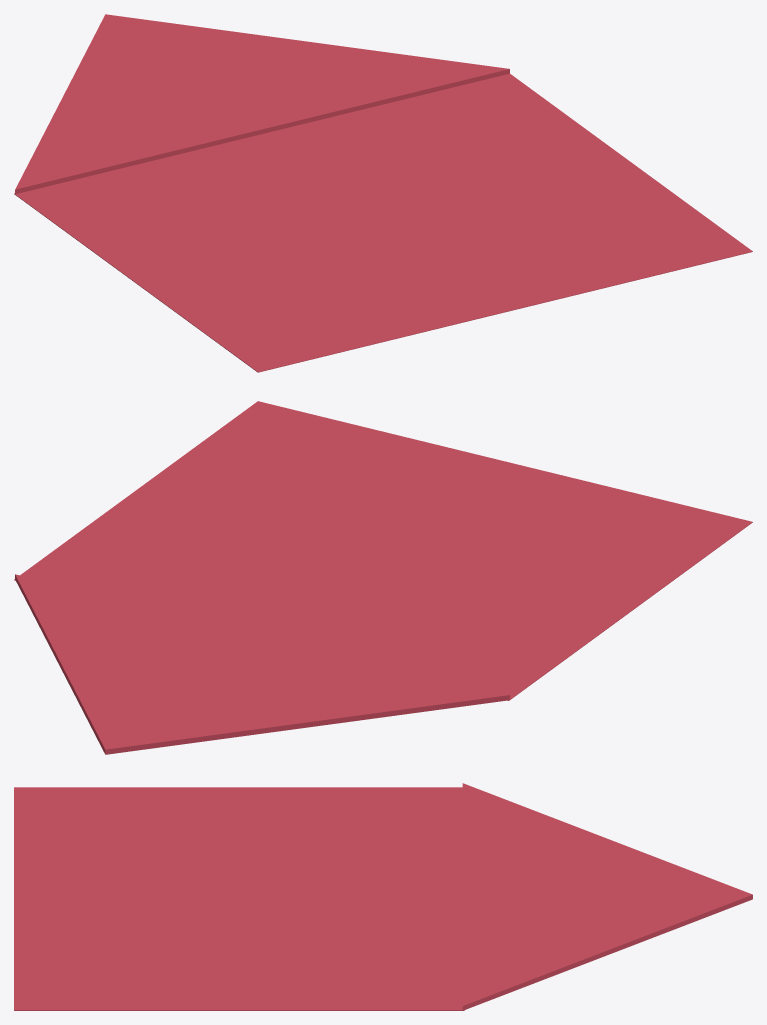
File: paperairplane3.glb
3 renders of one model, top to bottom at view 1: azimuth 30°, elevation 25°; view 2: azimuth 150°, elevation 25°; view 3: azimuth 270°, elevation 25°, orthographic. The views are drawn at different scales.
Visible parts, largest first — view 1: Mesh_Mesh_head_geo.001_lambert2SG.001; view 2: Mesh_Mesh_head_geo.001_lambert2SG.001; view 3: Mesh_Mesh_head_geo.001_lambert2SG.001.
Part boxes in pixels (bbox=[...]): Mesh_Mesh_head_geo.001_lambert2SG.001: bbox=[14, 14, 752, 372]; Mesh_Mesh_head_geo.001_lambert2SG.001: bbox=[14, 401, 752, 754]; Mesh_Mesh_head_geo.001_lambert2SG.001: bbox=[14, 783, 752, 1010].
Size of the model in its own units: 10 by 0.1 by 14.
